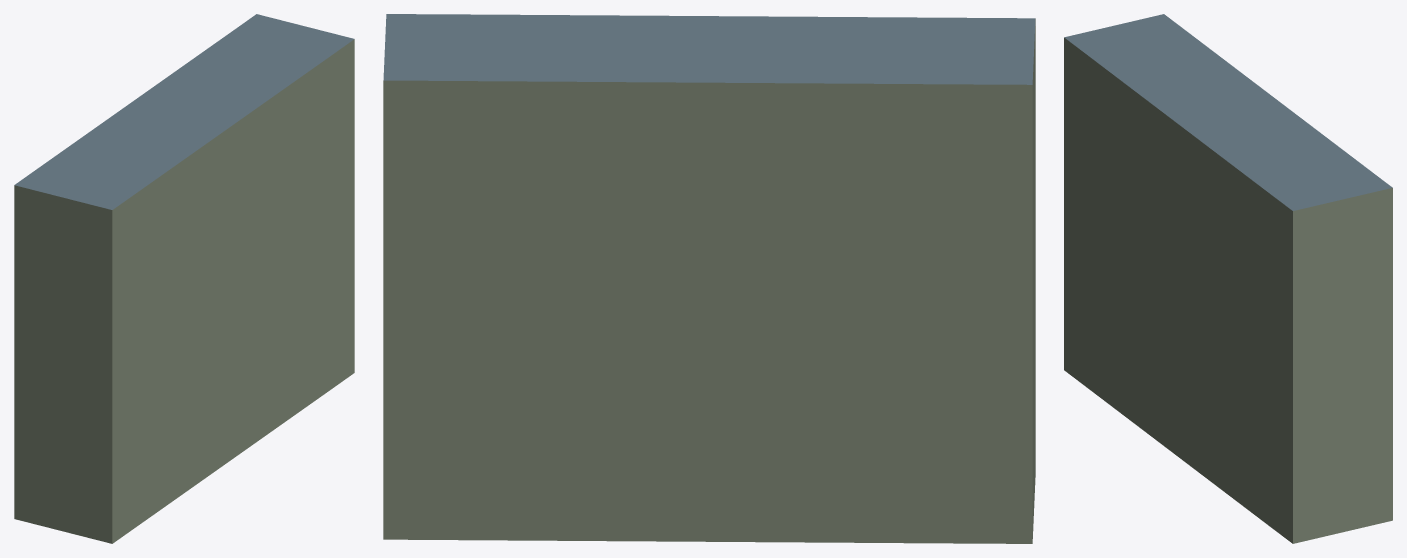
Rendered from nyc-1015988-0.glb.
3 renders of one model, left to right at view 1: azimuth 30°, elevation 25°; view 2: azimuth 150°, elevation 25°; view 3: azimuth 270°, elevation 25°, orthographic. The views are drawn at different scales.
Visible parts, largest first — view 1: nyc-1015988-0; view 2: nyc-1015988-0; view 3: nyc-1015988-0.
Part boxes in pixels (left/top/right/bottom): nyc-1015988-0: left=14, top=14, right=354, bottom=543; nyc-1015988-0: left=383, top=14, right=1035, bottom=543; nyc-1015988-0: left=1064, top=14, right=1392, bottom=543.
Bounding box in the file's own units: 25.9 × 20.39 × 18.26.
